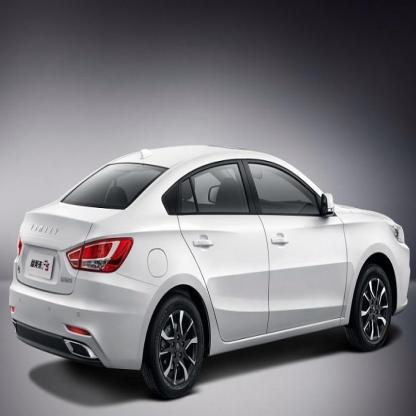Car: (0, 132, 416, 388)
